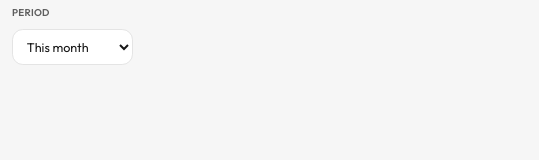
Test: RangeFilter › waits for both custom dates before applying
Later steps or results of the test are not shown.
Select "Custom range" in the dropdown labelled "Period" at (72, 47), box x1=12 y1=29 x2=133 y2=65
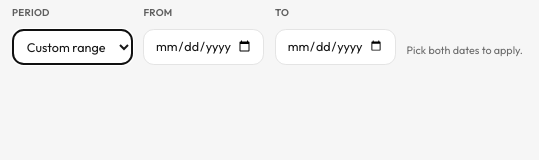
Now the text "Pick both dates to apply." is shown, box x1=406 y1=43 x2=523 y2=65
